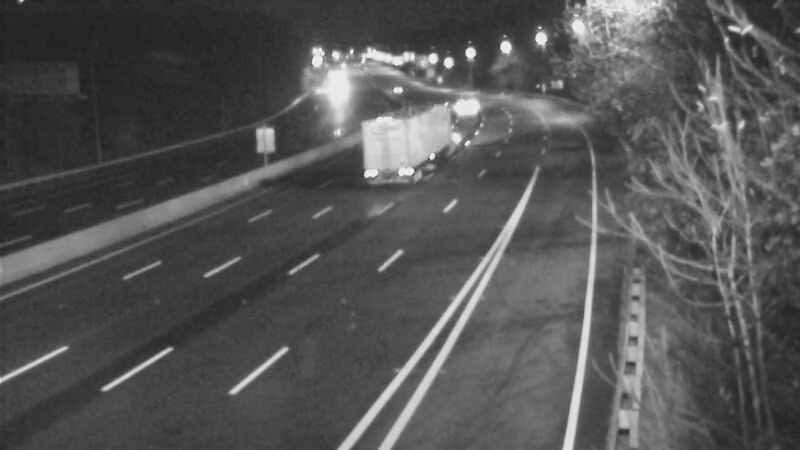vehicle: (375, 66, 425, 116), (444, 77, 494, 127), (373, 118, 423, 168), (314, 65, 364, 115)
